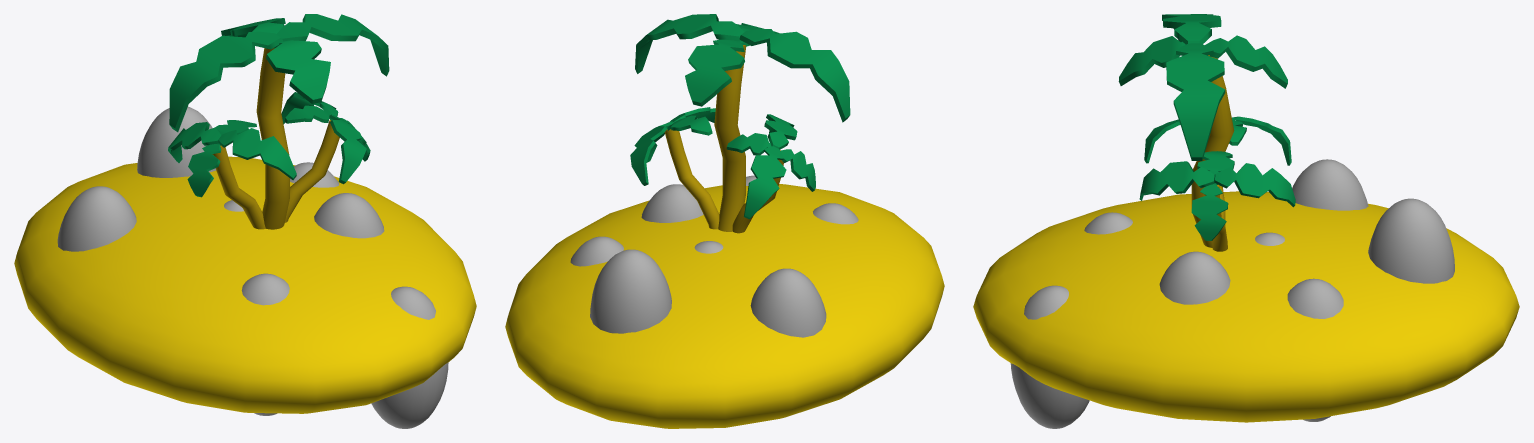
The model's file is Ocean_Hub_V4.fbx.
The picture shows the model from 3 angles, left to right: view 1: azimuth 30°, elevation 25°; view 2: azimuth 150°, elevation 25°; view 3: azimuth 270°, elevation 25°; orthographic projection. The views are drawn at different scales.
Visible parts, largest first — view 1: polySurface6, polySurface3, polySurface5, polySurface4; view 2: polySurface6, polySurface3, polySurface5, polySurface4; view 3: polySurface6, polySurface3, polySurface4, polySurface5.
Boxes of the visible parts, left/top/right/bottom form: polySurface6: left=14, top=106, right=476, bottom=428; polySurface3: left=169, top=14, right=389, bottom=229; polySurface5: left=168, top=120, right=296, bottom=229; polySurface4: left=281, top=92, right=370, bottom=222; polySurface6: left=505, top=175, right=944, bottom=428; polySurface3: left=635, top=14, right=850, bottom=231; polySurface5: left=726, top=114, right=815, bottom=233; polySurface4: left=630, top=107, right=719, bottom=229; polySurface6: left=973, top=159, right=1519, bottom=428; polySurface3: left=1118, top=14, right=1287, bottom=247; polySurface4: left=1139, top=151, right=1295, bottom=251; polySurface5: left=1144, top=116, right=1291, bottom=226.
Size of the model in its own units: 30.66 by 28.03 by 38.48.
